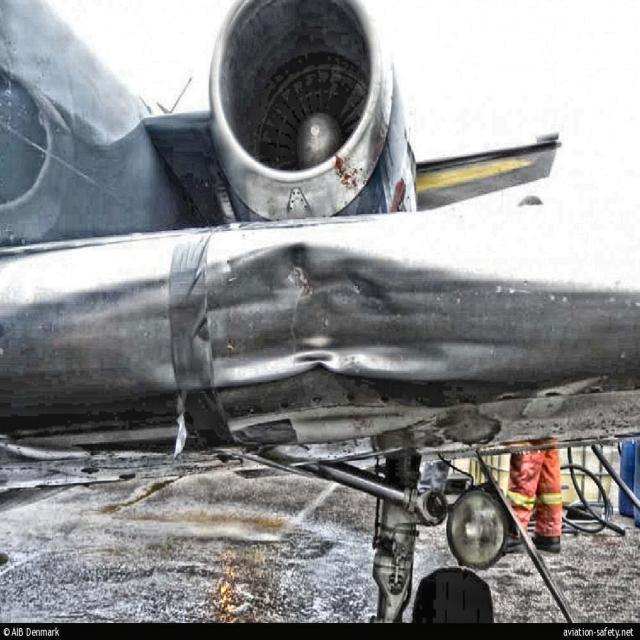dent: (148, 238, 523, 379)
